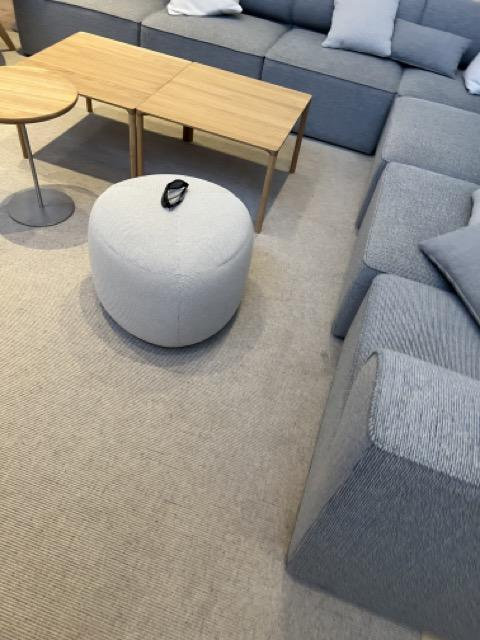Sunglasses: (161, 178, 189, 212)
